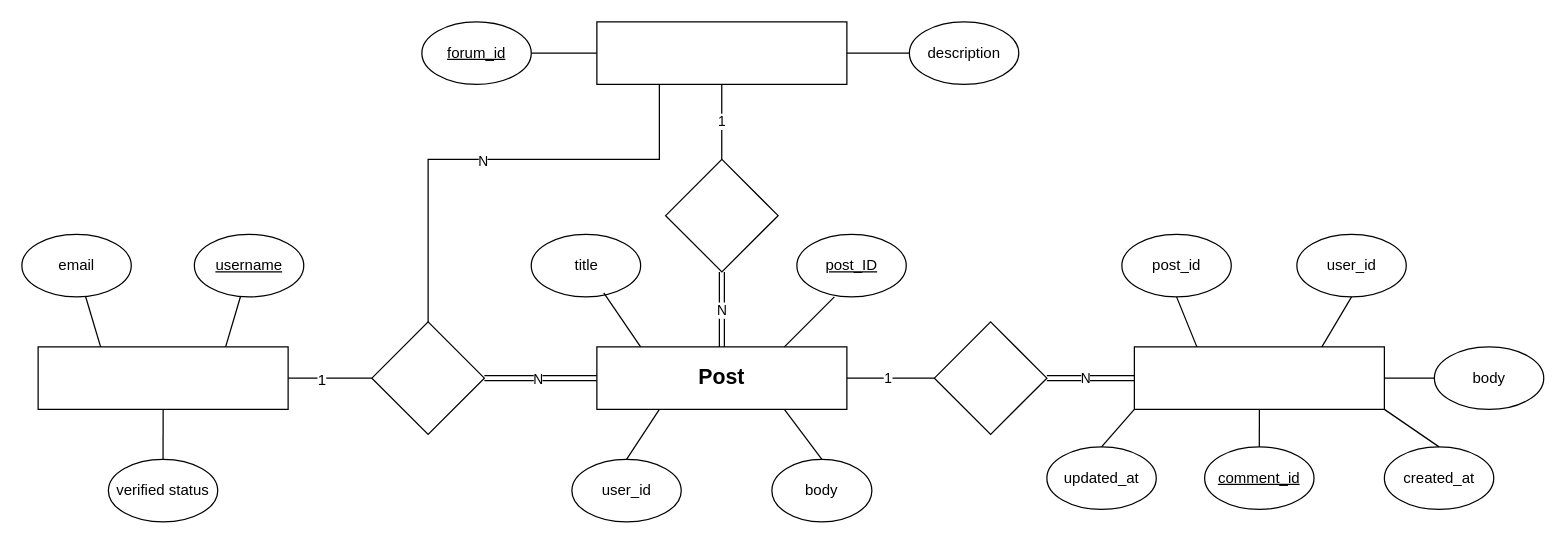
Some shapes in this 1566 by 544 pixel diagram are drawn without their labels. Here are the shapes that lost their labels. From the top down, the box of each, then its label:
(596, 21, 847, 84): Forums
(664, 158, 778, 272): contains
(37, 346, 288, 409): User
(371, 321, 484, 434): creates
(933, 321, 1047, 434): has
(1133, 346, 1384, 409): Comment
